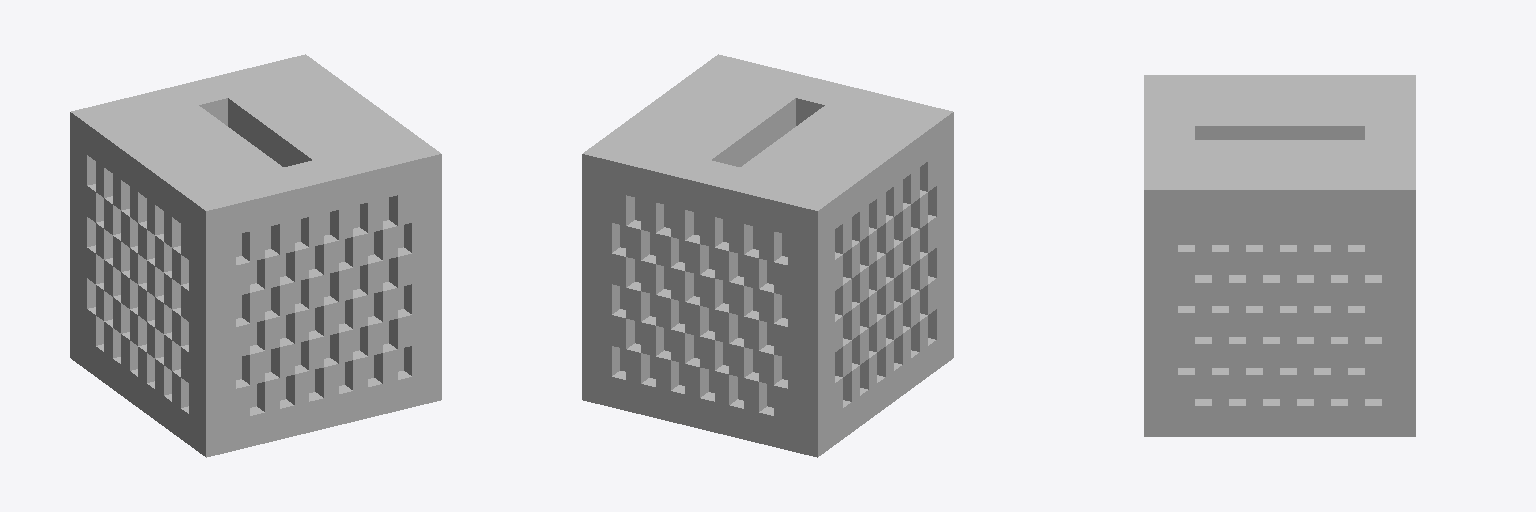
Rendered from MagicalJukebox.obj.
The picture shows the model from 3 angles: view 1: azimuth 30°, elevation 25°; view 2: azimuth 150°, elevation 25°; view 3: azimuth 270°, elevation 25°; orthographic projection.
Parts seen in each view (by area): view 1: pCube1; view 2: pCube1; view 3: pCube1.
Part boxes in pixels (left/top/right/bottom): pCube1: left=70, top=54, right=441, bottom=457; pCube1: left=582, top=54, right=953, bottom=457; pCube1: left=1144, top=75, right=1415, bottom=436.
Bounding box in the file's own units: 1 × 1 × 1.